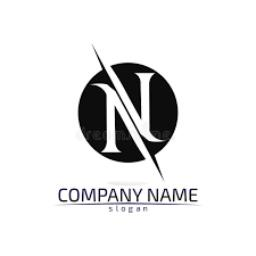n: (78, 37, 172, 185)
